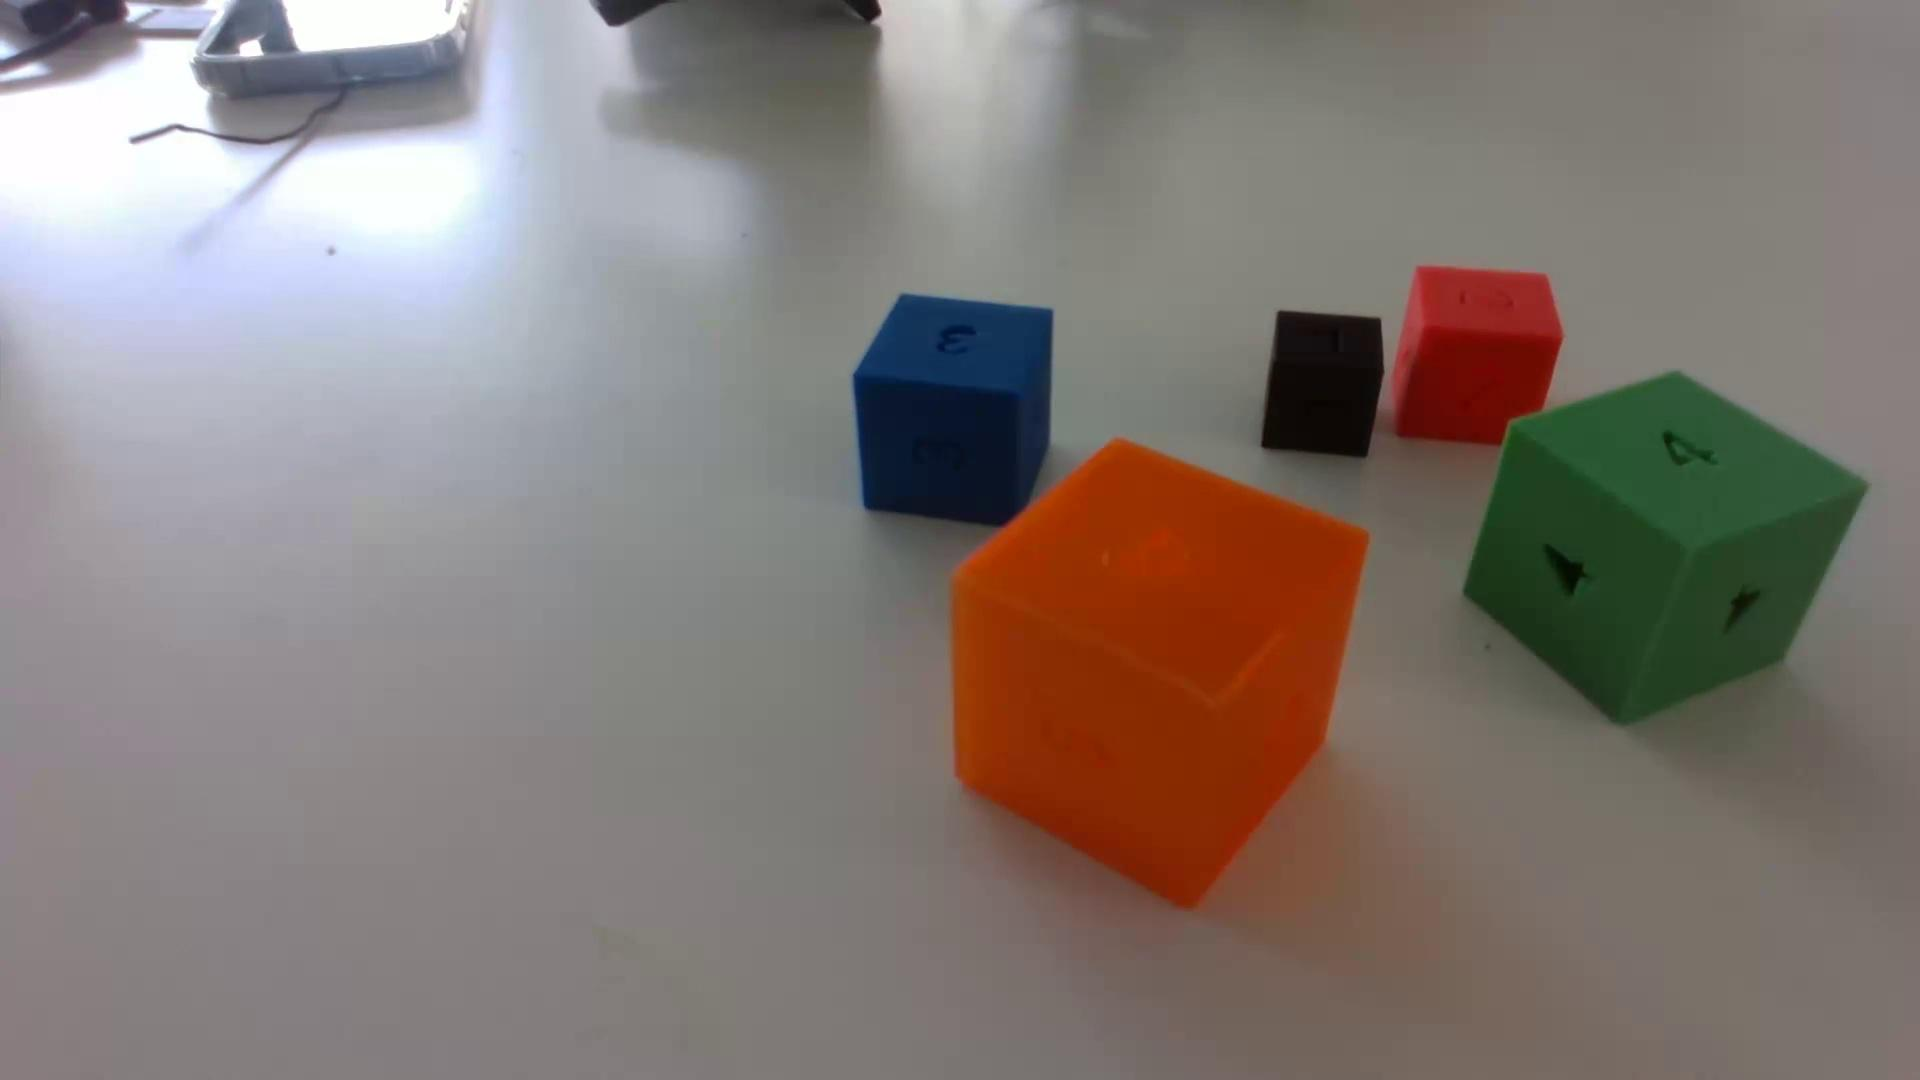black: (1261, 311, 1385, 459)
blue: (852, 295, 1054, 529)
green: (1464, 375, 1865, 724)
orange: (951, 440, 1367, 907)
red: (1390, 266, 1563, 447)
